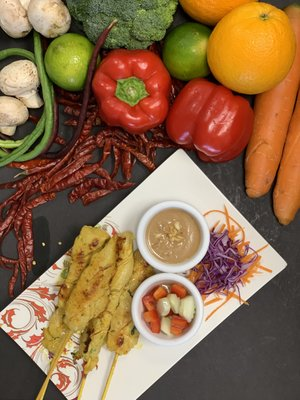curry: (65, 0, 178, 51)
sushi: (136, 200, 211, 275), (132, 272, 204, 348)
taco: (206, 1, 296, 96)
